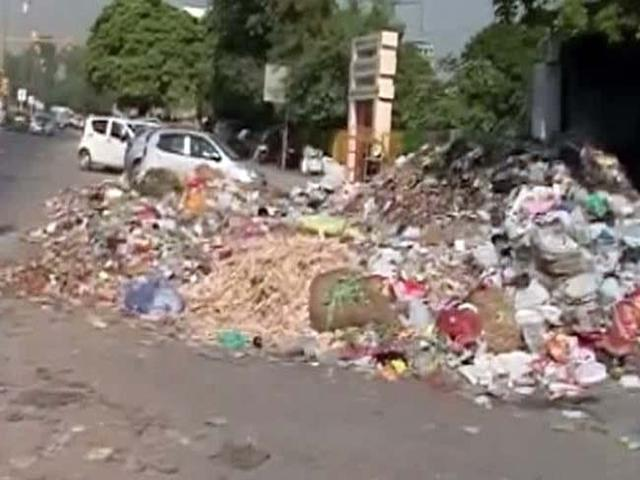garbage: (173, 200, 624, 373)
